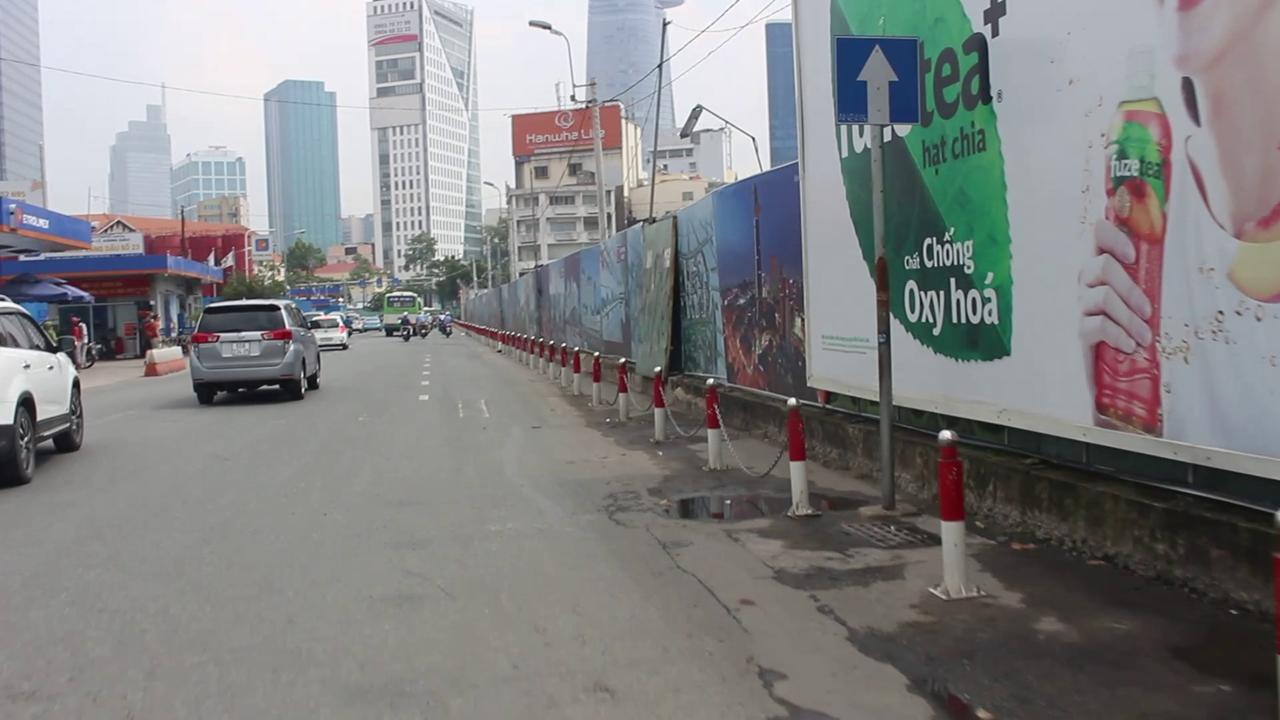P.124c: (830, 32, 921, 127)
